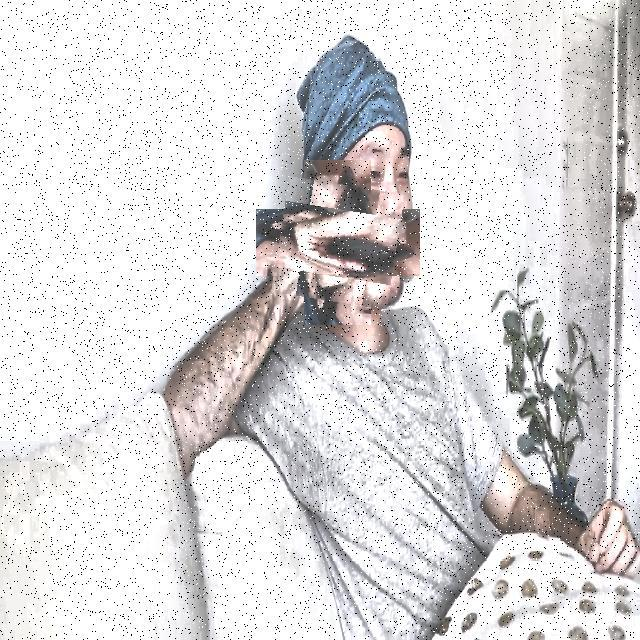Phone: (275, 180, 400, 305)
